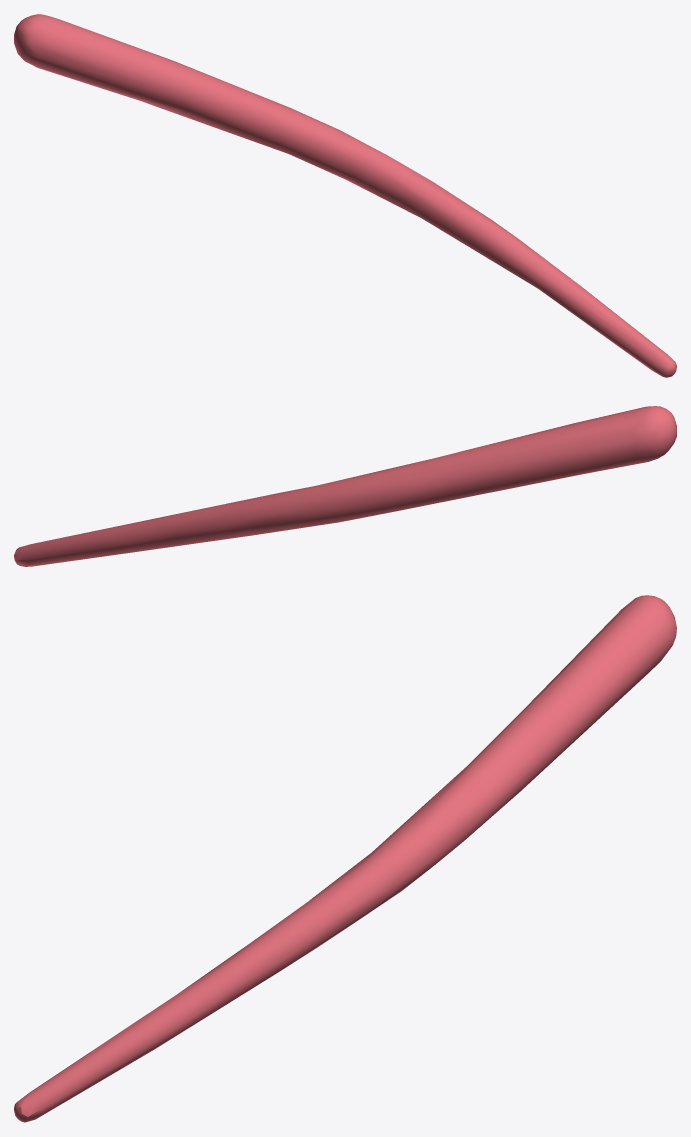
Rendered from fma8668_fj2937.glb.
3 views of the same model, one above another, from view 1: azimuth 30°, elevation 25°; view 2: azimuth 210°, elevation 25°; view 3: azimuth 270°, elevation 25° (orthographic). The views are drawn at different scales.
Visible parts, largest first — view 1: FMA8668_FJ2937; view 2: FMA8668_FJ2937; view 3: FMA8668_FJ2937.
Part boxes in pixels (x1,y1,x2,y2): FMA8668_FJ2937: [14, 14, 676, 377]; FMA8668_FJ2937: [14, 406, 676, 566]; FMA8668_FJ2937: [14, 595, 676, 1122].
Bounding box in the file's own units: 0.0501 × 0.0312 × 0.0609.
